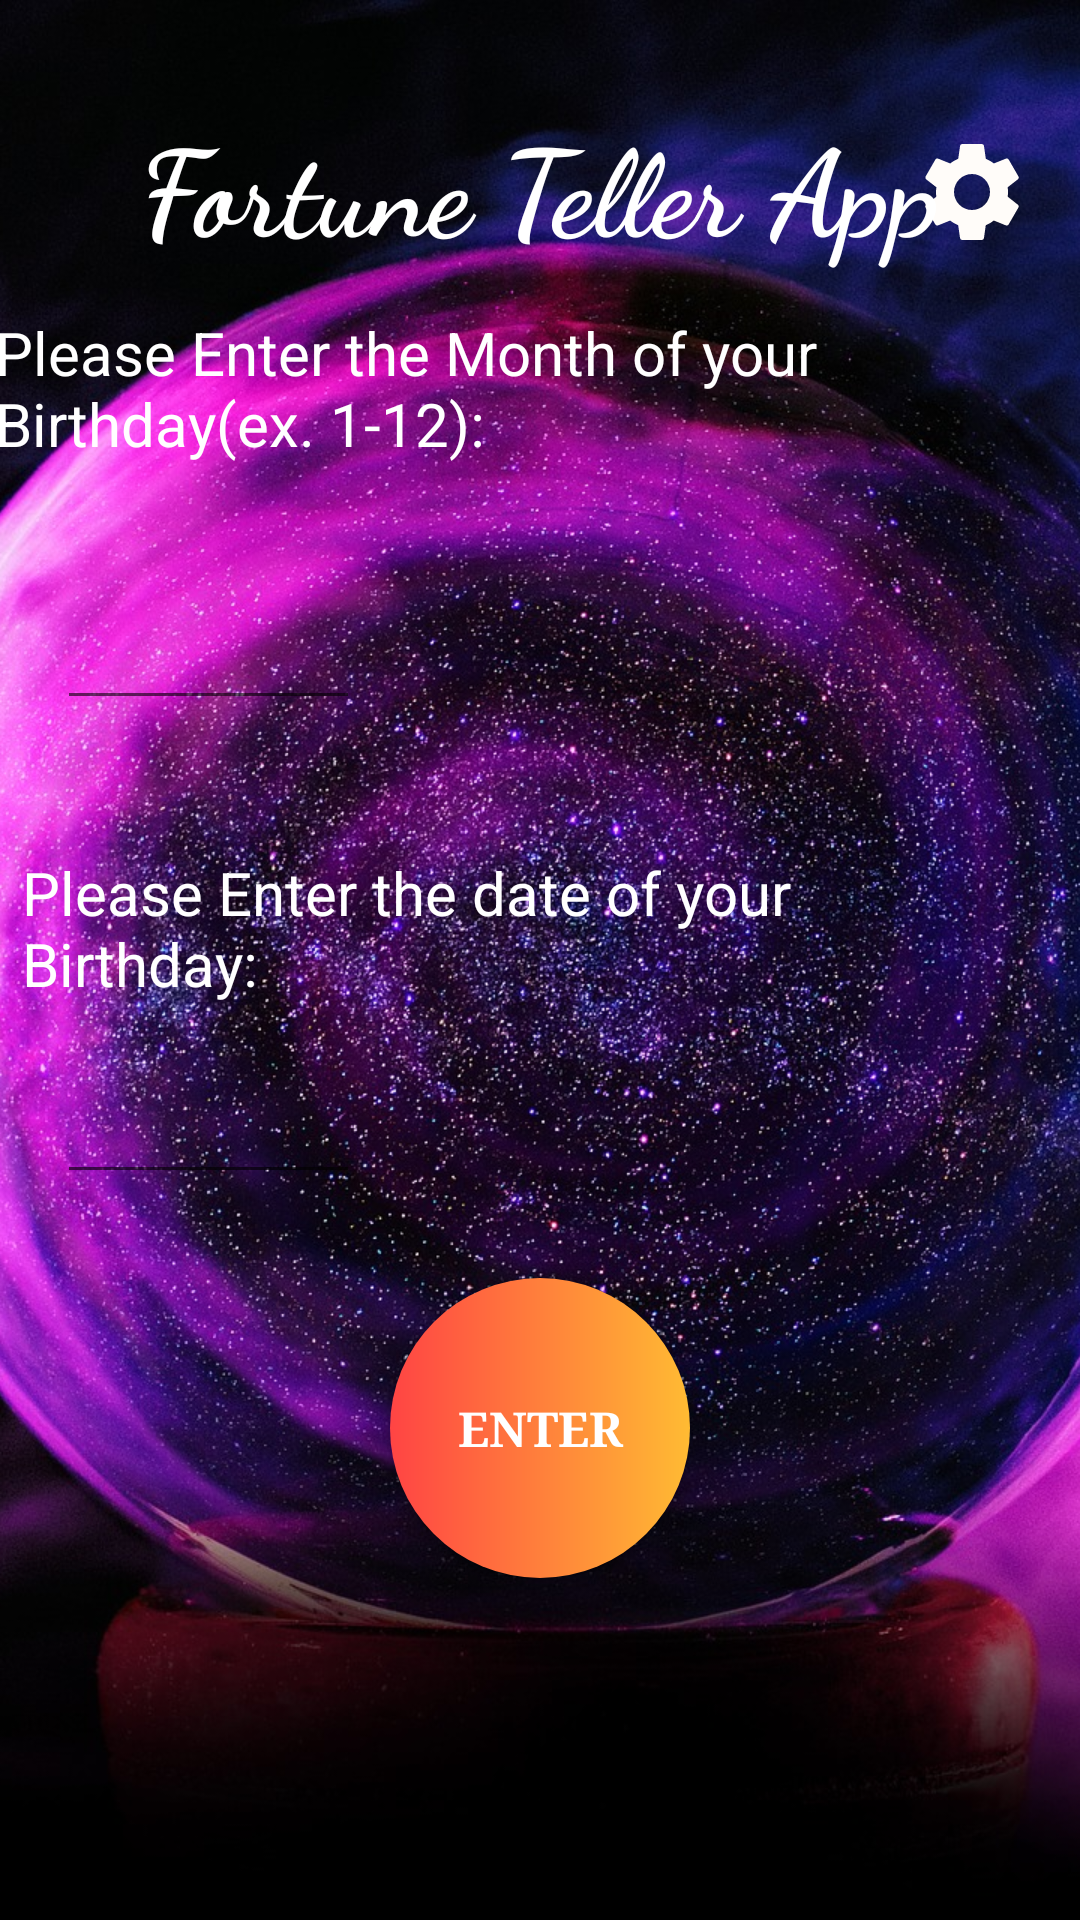

Icon click points for this 1080x1920 phone screenshot, format (x,y):
setting: (972,192)
